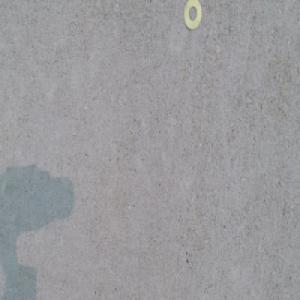Washer: (184, 0, 203, 30)
